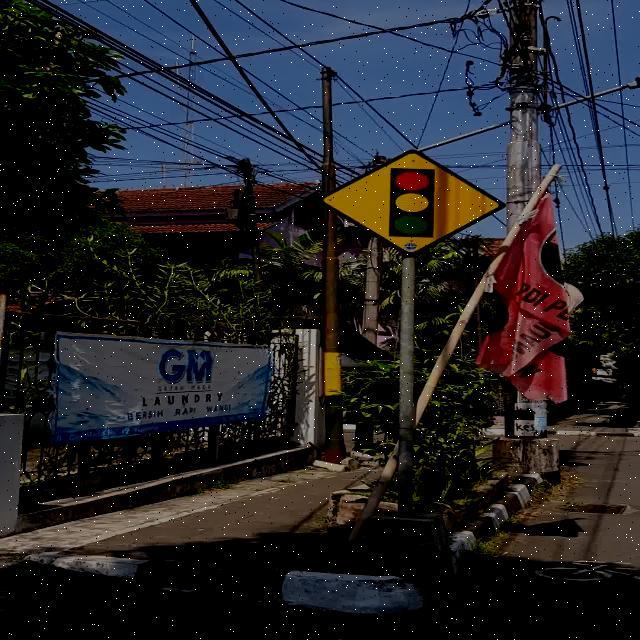Lampu Lalu Lintas: (312, 150, 506, 256)
